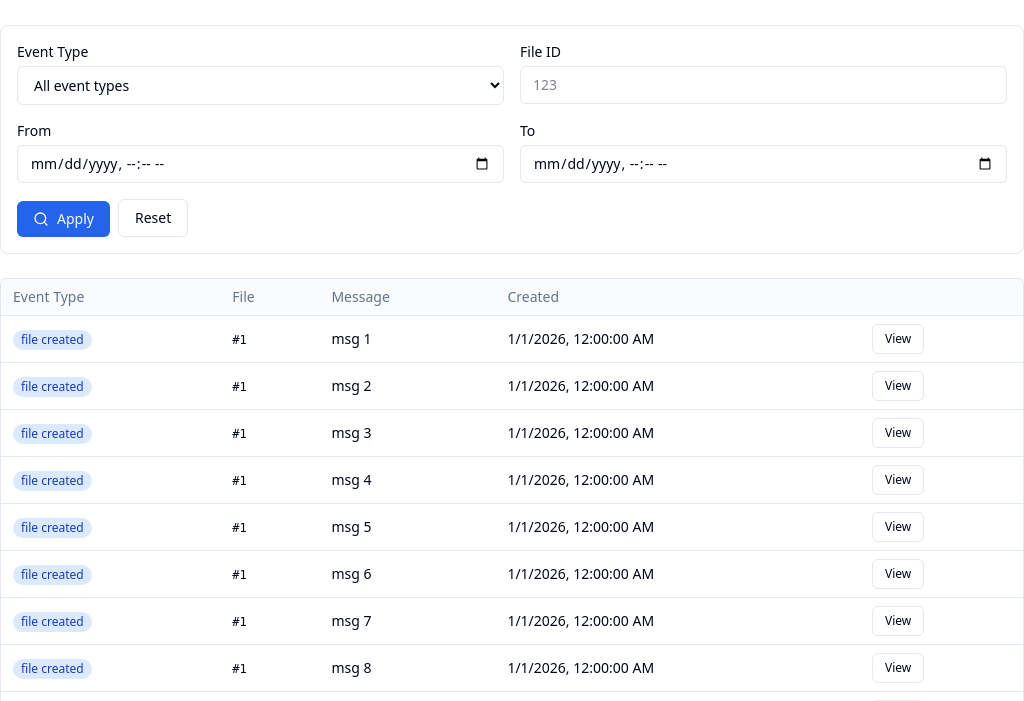
Test: LogsPage › clears the expanded entry when navigating to a page where it does not appear
The image size is (1024, 701).
expect the row with test id "log-row-1" is shown: met, box [1, 316, 1023, 362]
Note: Expand first entry
Click the 1st button "View": (898, 339) [872, 324, 924, 354]
(page scrolled)
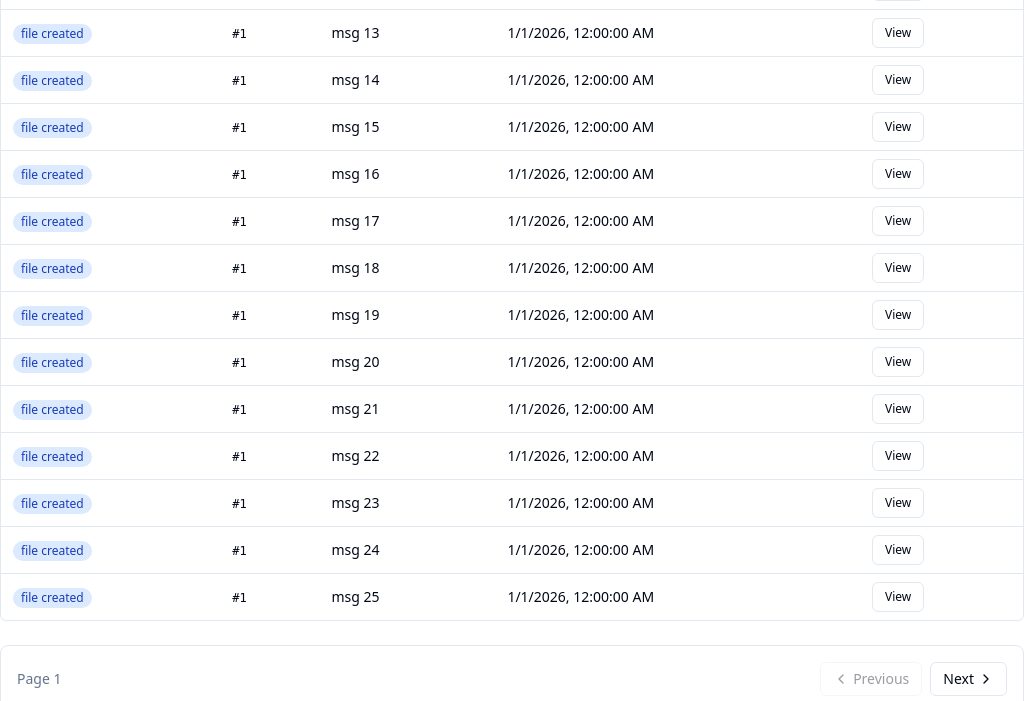
Click the button "Next": (969, 679) [930, 662, 1007, 696]
(page scrolled)
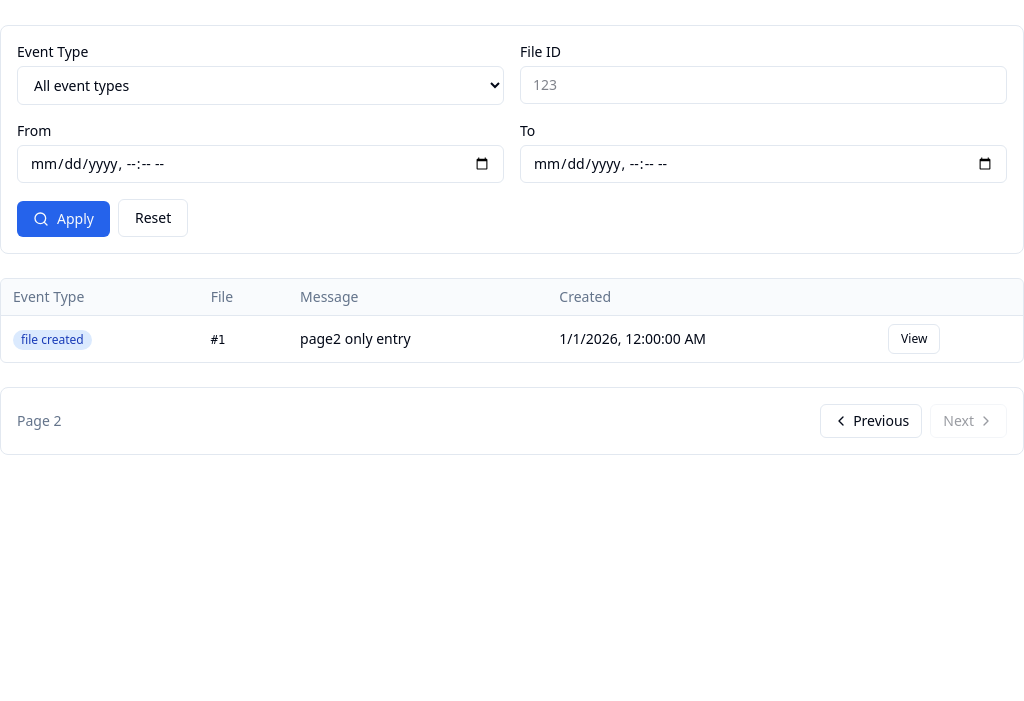
expect the text "page2 only entry" is shown: met, box [288, 316, 547, 362]
